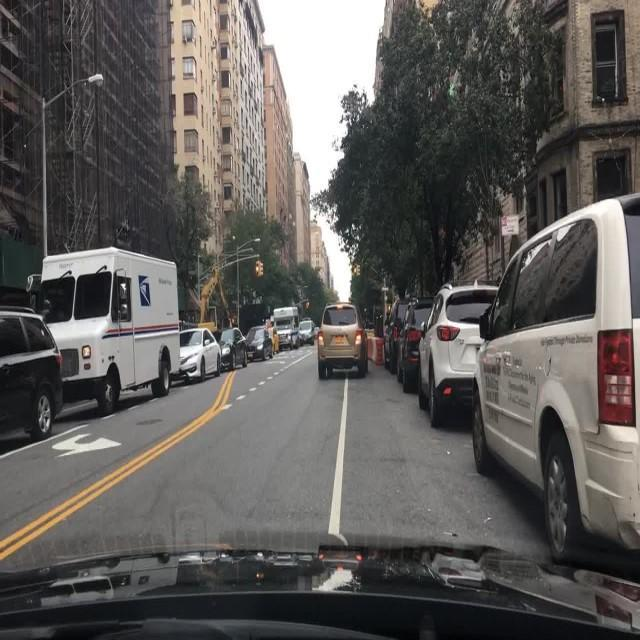normal: (470, 192, 639, 564), (31, 249, 184, 422), (412, 283, 500, 431), (0, 305, 65, 439), (318, 305, 372, 380), (389, 302, 436, 387), (181, 328, 223, 383), (219, 327, 250, 370), (272, 306, 301, 349), (247, 327, 278, 362), (298, 319, 317, 343)
